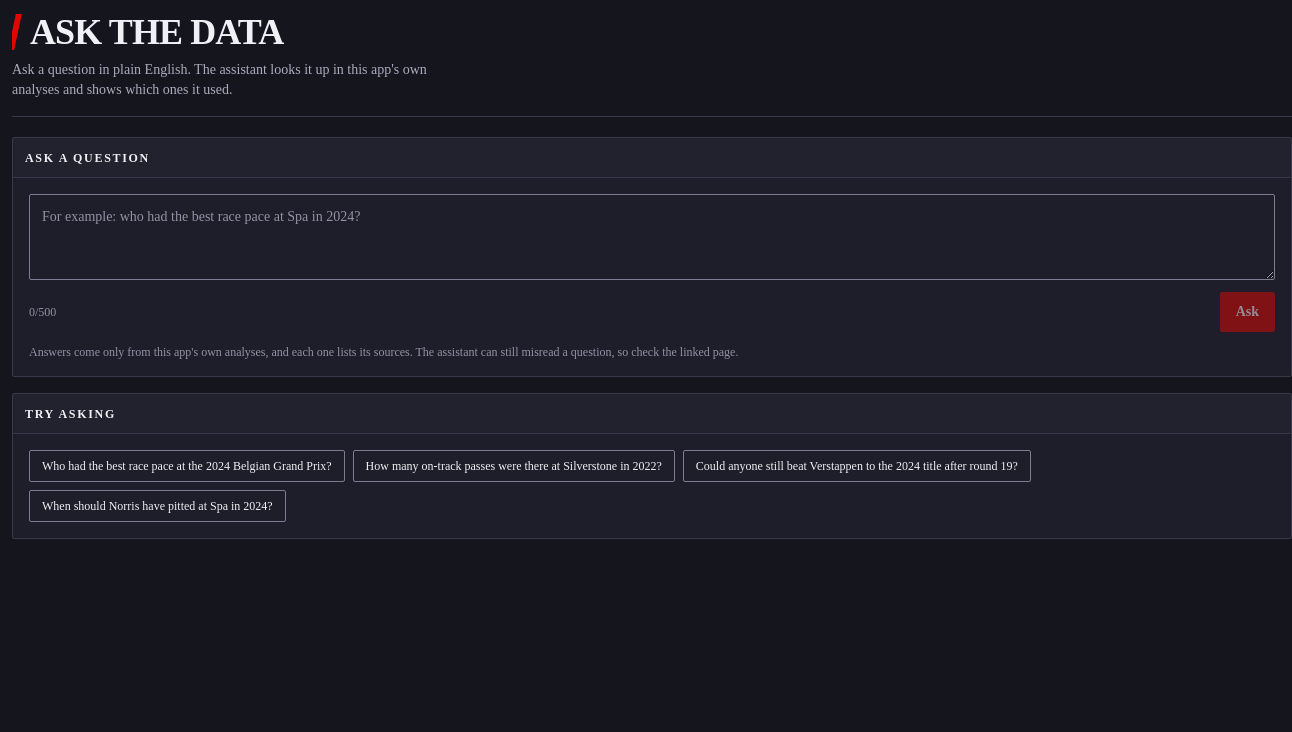
Test case: AskPage › falls back to a generic message when the server gives no detail
Type "Who won?" into the text box named "Your question". click: (652, 237)
box: [29,194,1275,280]
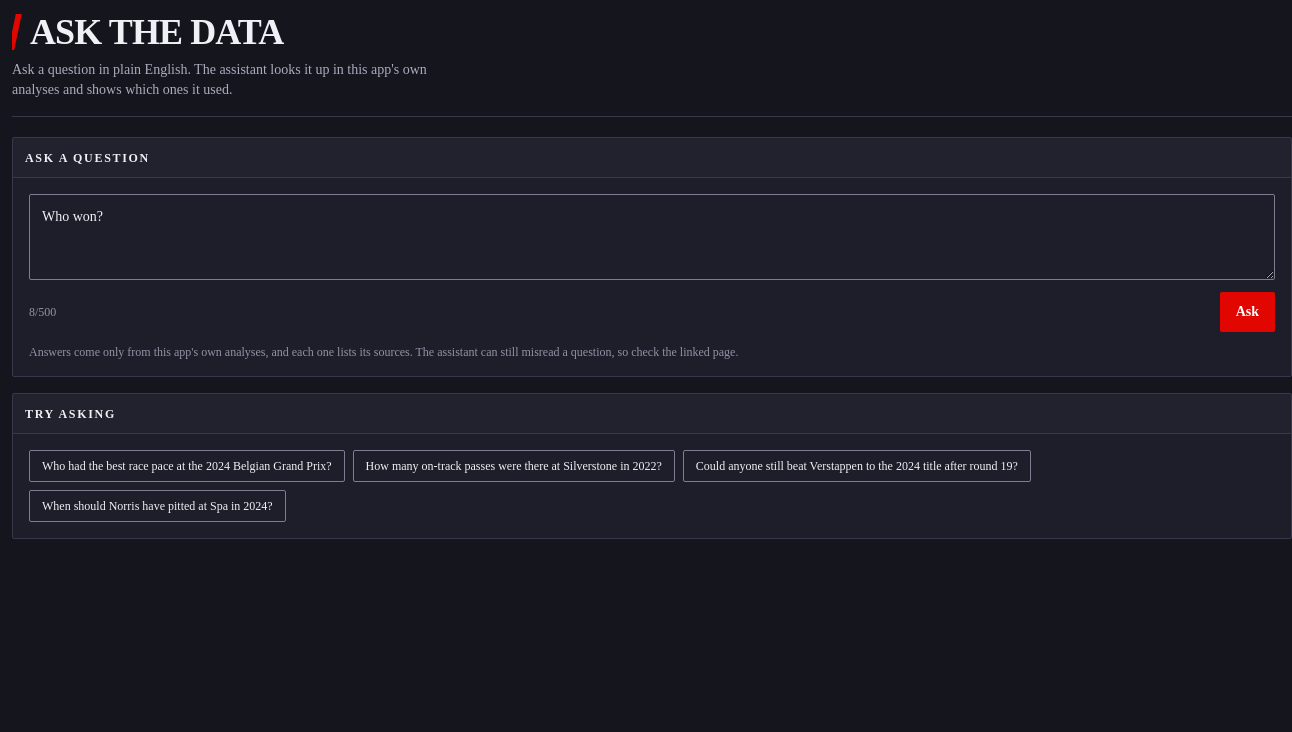
Click the button "Ask". click: (1247, 312)
box: [1220,292,1275,332]
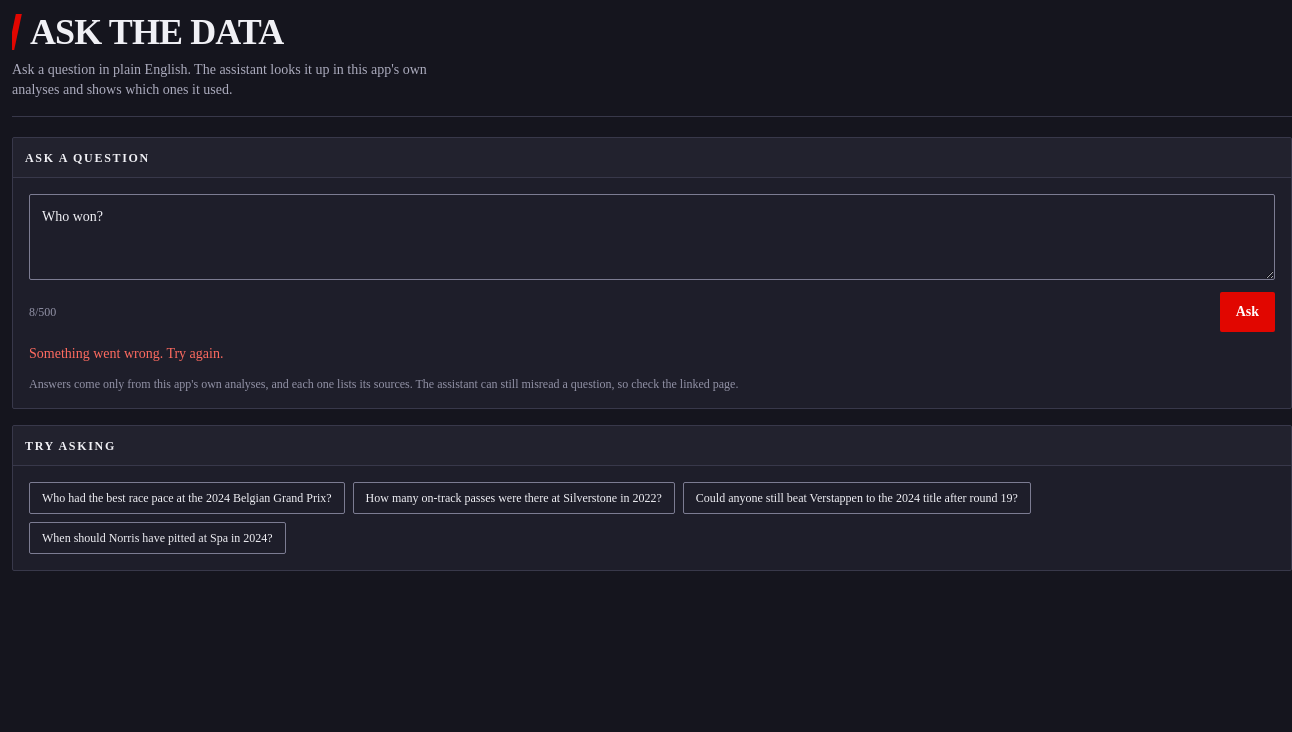
Check: the text "Something went wrong. Try again." is shown, box [29,346,224,361]
